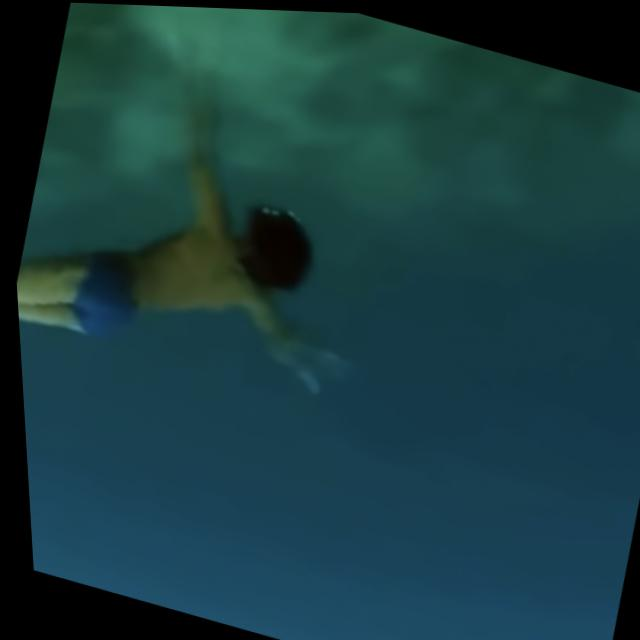human: (2, 37, 422, 498)
